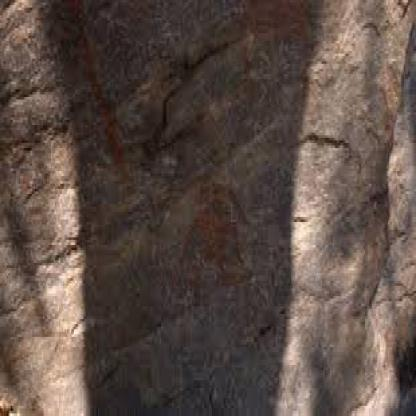Metamorphic_Quartize: (1, 8, 415, 414)
